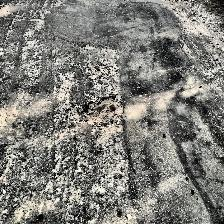pothole: (80, 93, 124, 129)
